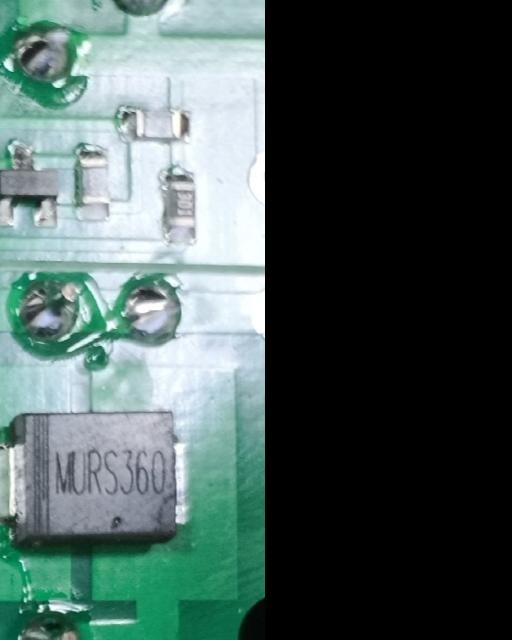chip-resistor: (73, 138, 110, 222), (117, 105, 193, 143), (162, 165, 197, 247)
diode: (0, 406, 190, 545)
transistor: (0, 141, 60, 228)
